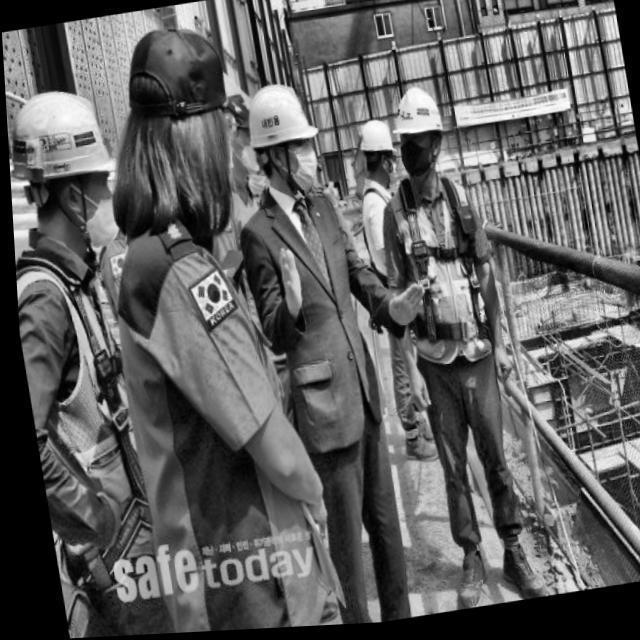safety belt: (14, 249, 178, 550), (377, 187, 515, 364)
